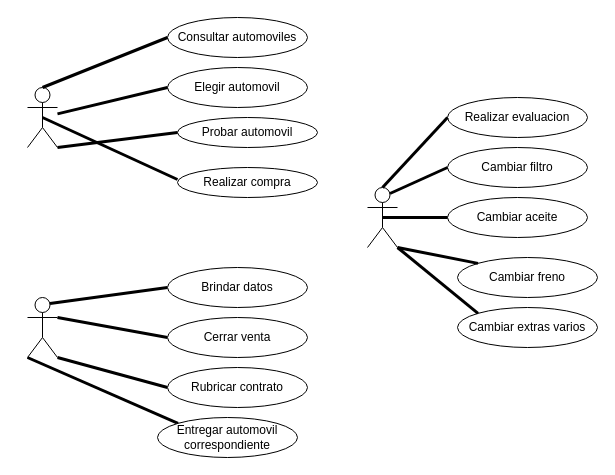
The diagram is 615 pixels wide and 475 high, and some of its shapes have lost their labels. The centre of each missing label's shape, as x and y in pixels:
"Cliente" belongs at (x=42, y=117).
"Mecanico" belongs at (x=382, y=217).
"Vendedor" belongs at (x=42, y=327).
